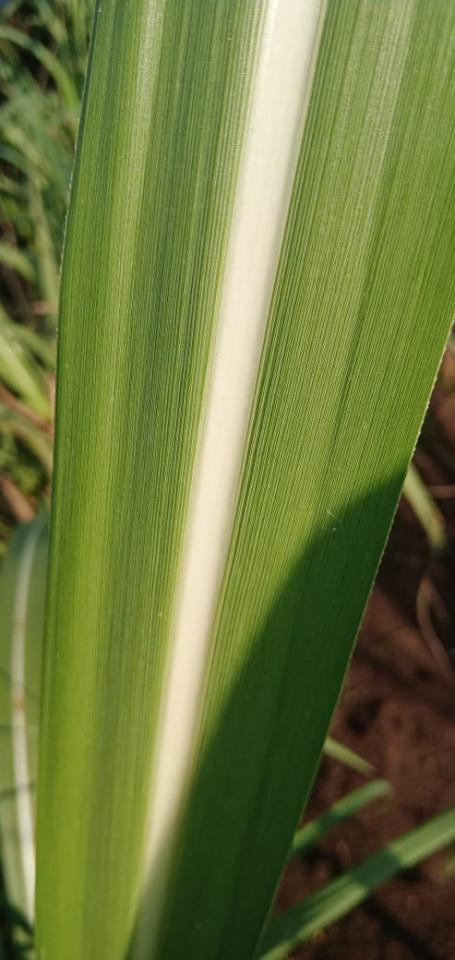Healthy: (159, 0, 454, 959), (34, 1, 261, 959)
